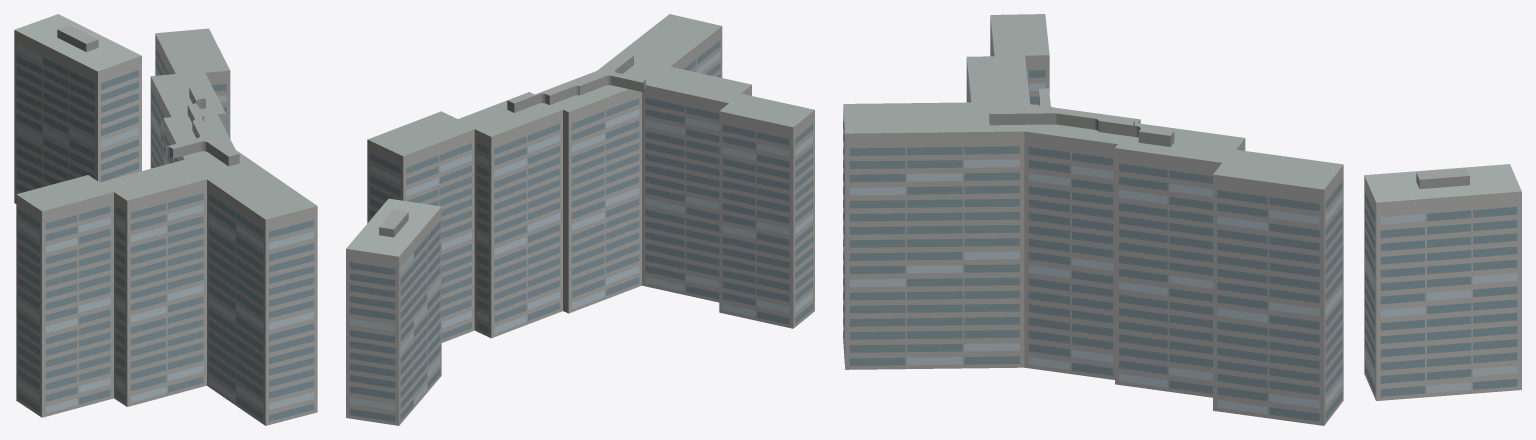
File: apt-a12009302.glb
3 renders of one model, left to right at view 1: azimuth 30°, elevation 25°; view 2: azimuth 150°, elevation 25°; view 3: azimuth 270°, elevation 25°, orthographic. The views are drawn at different scales.
Visible parts, largest first — view 1: apt-a12009302; view 2: apt-a12009302; view 3: apt-a12009302.
Boxes of the visible parts, x1,y1,x2,y2 form: apt-a12009302: (14,14,317,425); apt-a12009302: (346,14,814,425); apt-a12009302: (843,14,1521,425).
Size of the model in its own units: 76.17 by 50 by 124.
